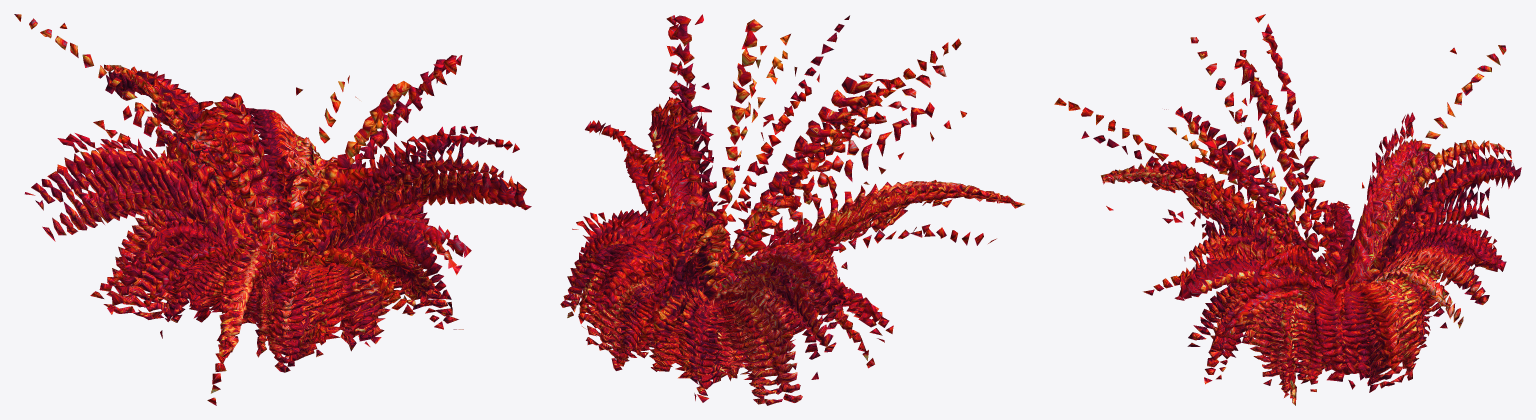
Rendered from Blood3.fbx.
3 views of the same model, side by side, from view 1: azimuth 30°, elevation 25°; view 2: azimuth 150°, elevation 25°; view 3: azimuth 270°, elevation 25° (orthographic). The views are drawn at different scales.
Visible parts, largest first — view 1: LODGroup_1_MainMesh_11_SubMesh_1, LODGroup_1_MainMesh_9_SubMesh_1, LODGroup_1_MainMesh_16_SubMesh_1, LODGroup_1_MainMesh_10_SubMesh_1, LODGroup_1_MainMesh_12_SubMesh_1, LODGroup_1_MainMesh_13_SubMesh_1, LODGroup_1_MainMesh_15_SubMesh_1, LODGroup_1_MainMesh_8_SubMesh_1, LODGroup_1_MainMesh_18_SubMesh_1, LODGroup_1_MainMesh_14_SubMesh_1, LODGroup_1_MainMesh_17_SubMesh_1, LODGroup_1_MainMesh_19_SubMesh_1 (+12 smaller); view 2: LODGroup_1_MainMesh_16_SubMesh_1, LODGroup_1_MainMesh_9_SubMesh_1, LODGroup_1_MainMesh_11_SubMesh_1, LODGroup_1_MainMesh_8_SubMesh_1, LODGroup_1_MainMesh_17_SubMesh_1, LODGroup_1_MainMesh_10_SubMesh_1, LODGroup_1_MainMesh_15_SubMesh_1, LODGroup_1_MainMesh_14_SubMesh_1, LODGroup_1_MainMesh_7_SubMesh_1, LODGroup_1_MainMesh_13_SubMesh_1, LODGroup_1_MainMesh_12_SubMesh_1, LODGroup_1_MainMesh_19_SubMesh_1 (+11 smaller); view 3: LODGroup_1_MainMesh_16_SubMesh_1, LODGroup_1_MainMesh_15_SubMesh_1, LODGroup_1_MainMesh_17_SubMesh_1, LODGroup_1_MainMesh_18_SubMesh_1, LODGroup_1_MainMesh_11_SubMesh_1, LODGroup_1_MainMesh_14_SubMesh_1, LODGroup_1_MainMesh_19_SubMesh_1, LODGroup_1_MainMesh_12_SubMesh_1, LODGroup_1_MainMesh_13_SubMesh_1, LODGroup_1_MainMesh_10_SubMesh_1, LODGroup_1_MainMesh_9_SubMesh_1, LODGroup_1_MainMesh_20_SubMesh_1 (+12 smaller).
Boxes of the visible parts, bbox=[...] form: LODGroup_1_MainMesh_11_SubMesh_1: bbox=[98, 59, 446, 293]; LODGroup_1_MainMesh_9_SubMesh_1: bbox=[122, 75, 423, 290]; LODGroup_1_MainMesh_16_SubMesh_1: bbox=[29, 18, 477, 319]; LODGroup_1_MainMesh_10_SubMesh_1: bbox=[108, 71, 434, 291]; LODGroup_1_MainMesh_12_SubMesh_1: bbox=[82, 54, 456, 298]; LODGroup_1_MainMesh_13_SubMesh_1: bbox=[70, 42, 462, 303]; LODGroup_1_MainMesh_15_SubMesh_1: bbox=[40, 29, 468, 310]; LODGroup_1_MainMesh_8_SubMesh_1: bbox=[134, 81, 411, 286]; LODGroup_1_MainMesh_18_SubMesh_1: bbox=[64, 65, 483, 346]; LODGroup_1_MainMesh_14_SubMesh_1: bbox=[55, 36, 455, 307]; LODGroup_1_MainMesh_17_SubMesh_1: bbox=[14, 14, 478, 344]; LODGroup_1_MainMesh_19_SubMesh_1: bbox=[57, 65, 494, 364]; LODGroup_1_MainMesh_16_SubMesh_1: bbox=[576, 32, 950, 346]; LODGroup_1_MainMesh_9_SubMesh_1: bbox=[608, 45, 892, 318]; LODGroup_1_MainMesh_11_SubMesh_1: bbox=[601, 14, 925, 326]; LODGroup_1_MainMesh_8_SubMesh_1: bbox=[614, 59, 872, 316]; LODGroup_1_MainMesh_17_SubMesh_1: bbox=[572, 24, 962, 350]; LODGroup_1_MainMesh_10_SubMesh_1: bbox=[602, 40, 909, 365]; LODGroup_1_MainMesh_15_SubMesh_1: bbox=[583, 44, 939, 341]; LODGroup_1_MainMesh_14_SubMesh_1: bbox=[587, 56, 966, 336]; LODGroup_1_MainMesh_7_SubMesh_1: bbox=[621, 78, 853, 365]; LODGroup_1_MainMesh_13_SubMesh_1: bbox=[590, 15, 951, 365]; LODGroup_1_MainMesh_12_SubMesh_1: bbox=[594, 15, 934, 366]; LODGroup_1_MainMesh_19_SubMesh_1: bbox=[579, 42, 983, 363]; LODGroup_1_MainMesh_16_SubMesh_1: bbox=[1107, 47, 1500, 347]; LODGroup_1_MainMesh_15_SubMesh_1: bbox=[1122, 65, 1491, 339]; LODGroup_1_MainMesh_17_SubMesh_1: bbox=[1093, 45, 1506, 353]; LODGroup_1_MainMesh_18_SubMesh_1: bbox=[1081, 88, 1493, 358]; LODGroup_1_MainMesh_11_SubMesh_1: bbox=[1168, 34, 1455, 318]; LODGroup_1_MainMesh_14_SubMesh_1: bbox=[1132, 14, 1484, 373]; LODGroup_1_MainMesh_19_SubMesh_1: bbox=[1068, 85, 1500, 366]; LODGroup_1_MainMesh_12_SubMesh_1: bbox=[1154, 23, 1462, 322]; LODGroup_1_MainMesh_13_SubMesh_1: bbox=[1144, 32, 1472, 328]; LODGroup_1_MainMesh_10_SubMesh_1: bbox=[1182, 52, 1447, 316]; LODGroup_1_MainMesh_9_SubMesh_1: bbox=[1194, 68, 1440, 313]; LODGroup_1_MainMesh_20_SubMesh_1: bbox=[1054, 77, 1505, 374].
Size of the model in its own units: 44.4 by 31.77 by 49.89.
